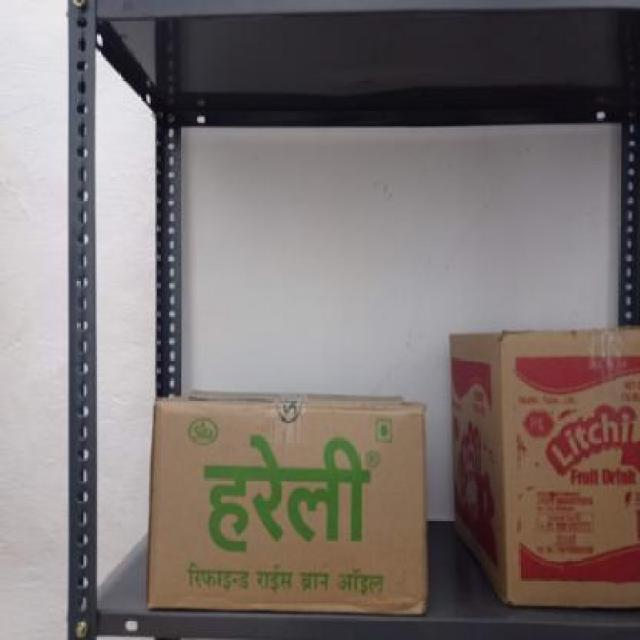box: (146, 399, 432, 613), (498, 330, 640, 610)
